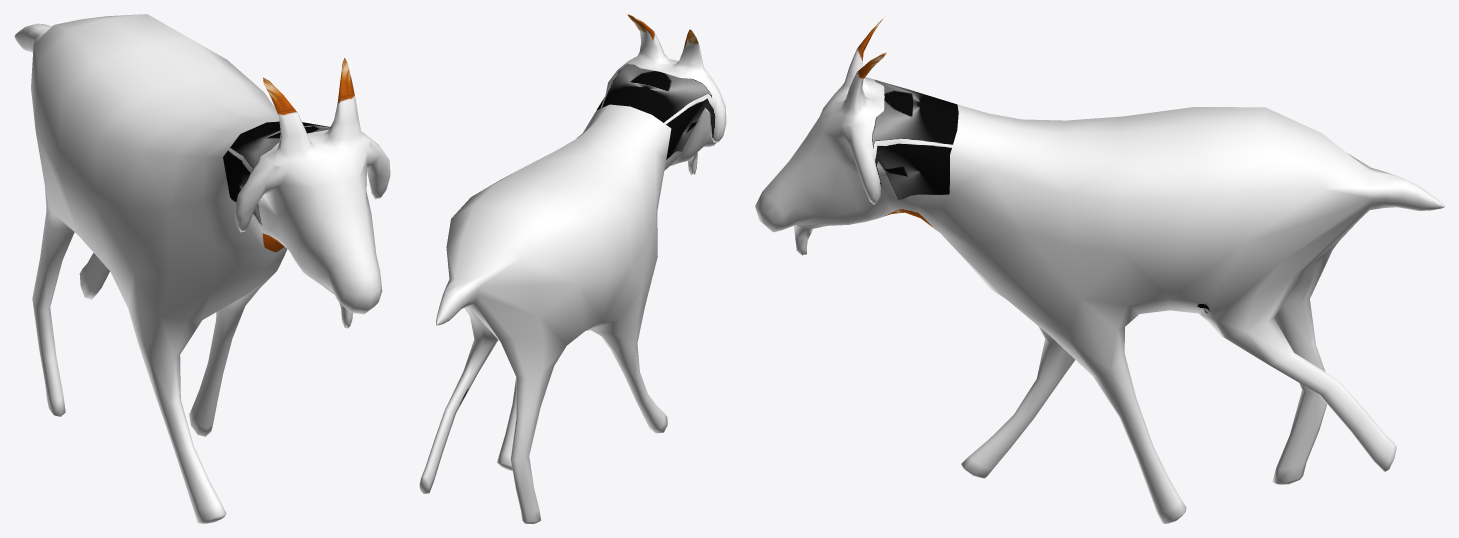
Rendered from goat.gltf.
3 renders of one model, left to right at view 1: azimuth 30°, elevation 25°; view 2: azimuth 150°, elevation 25°; view 3: azimuth 270°, elevation 25°, orthographic. The views are drawn at different scales.
Bounding box in the file's own units: 0.8137 × 2.11 × 2.8.
Materials: 1 (1 with a texture image).
